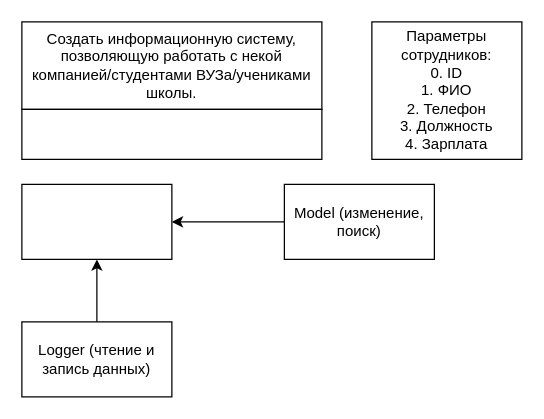
Image size: 544x419. Some labels were removed from this diagram. The centre of each missing label's shape, as x and y in pixels:
(Записывать новые данныеб находить, выводить полную базу, изменять(удаляь)): the point at 171,133
UI (ввод и вывод информации: the point at 96,221
